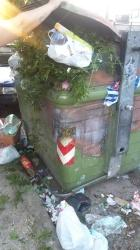Dechets: (8, 18, 120, 89), (54, 200, 111, 249), (0, 113, 21, 164), (90, 216, 130, 236), (116, 190, 139, 216), (66, 191, 91, 213), (20, 154, 34, 175)
Trash: (15, 77, 139, 191)
